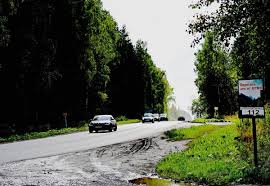car: (88, 114, 118, 135)
